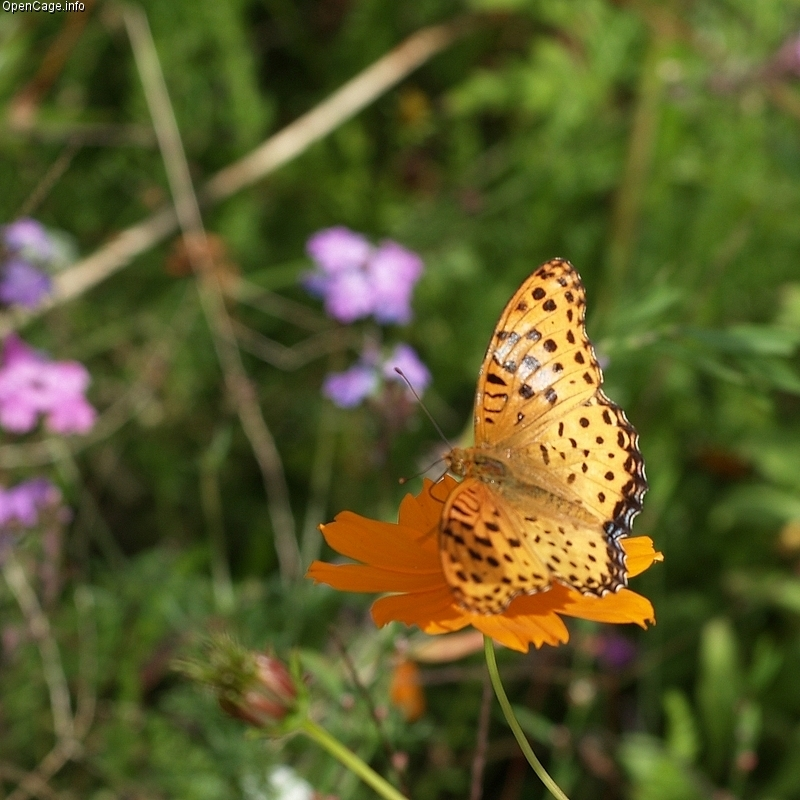Argyreus hyperbius: (385, 254, 661, 615)
butterfly: (387, 256, 663, 617)
